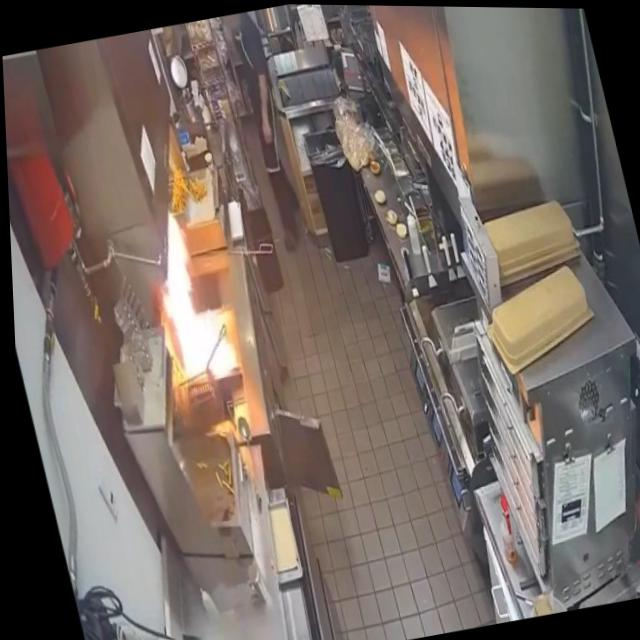fire: (133, 196, 237, 393)
